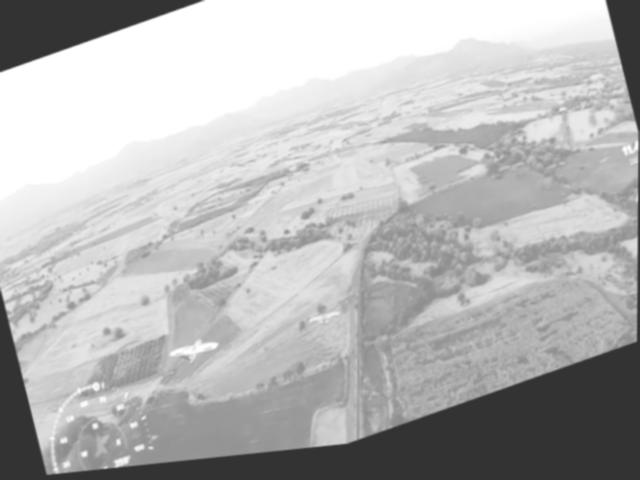hedef: (164, 330, 229, 381), (298, 307, 350, 344)
